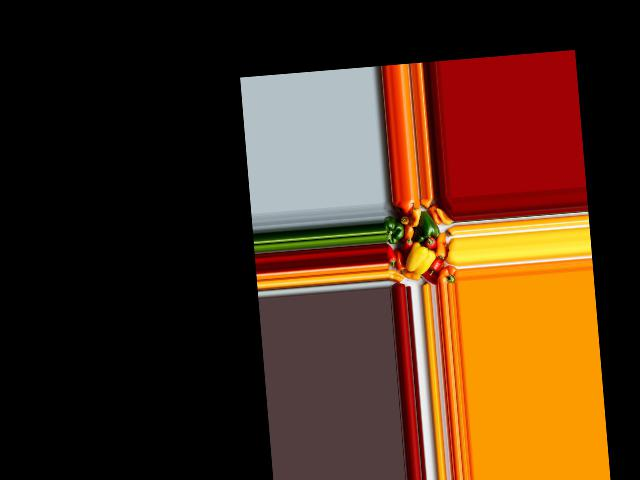bell_pepper: (385, 245, 399, 268)
